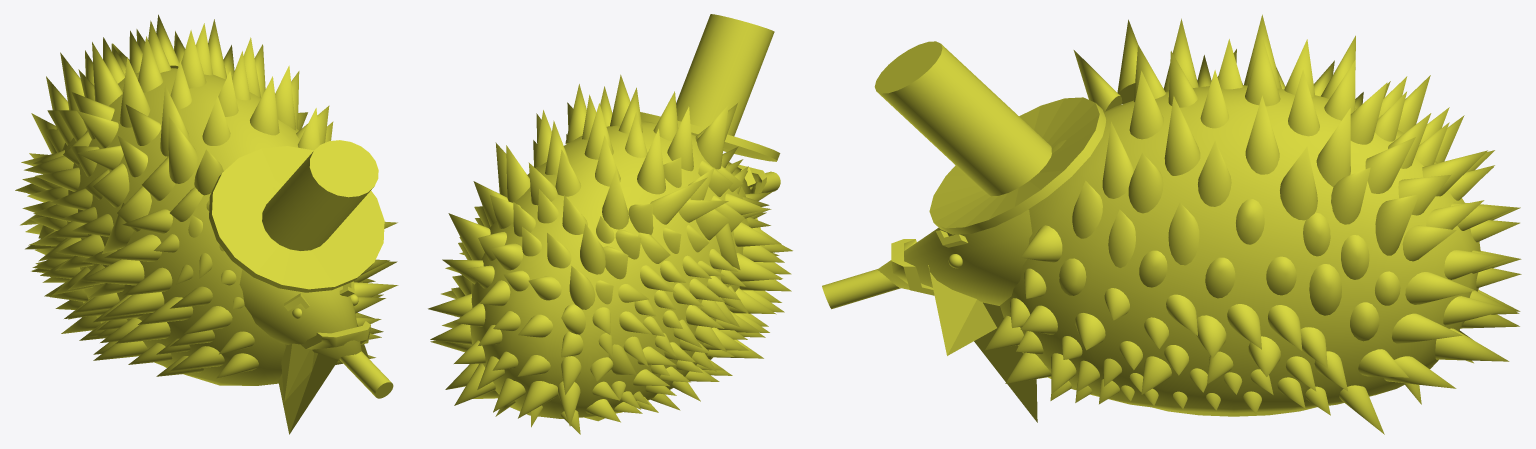
The model's file is Shane_the_Echidna.fbx.
3 renders of one model, left to right at view 1: azimuth 30°, elevation 25°; view 2: azimuth 150°, elevation 25°; view 3: azimuth 270°, elevation 25°, orthographic. The views are drawn at different scales.
Parts seen in each view (by area): view 1: hat, body, face, beard, spike169, pPyramid2, nose, spike190, spike4, spike10, spike38, pCube1 (+58 smaller); view 2: body, hat, spike4, spike169, spike10, spike184, spike9, spike48, spike19, spike12, spike20, spike18 (+75 smaller); view 3: body, hat, face, pPyramid1, beard, spike46, spike7, nose, spike48, spike1, spike12, spike55 (+64 smaller).
Part boxes in pixels (box(x1,y1,x2,y2)): hat: box(209, 140, 384, 292); body: box(54, 68, 299, 385); face: box(239, 269, 361, 360); beard: box(278, 344, 338, 434); spike169: box(168, 116, 197, 183); pPyramid2: box(281, 343, 313, 401); nose: box(339, 351, 393, 398); spike190: box(80, 259, 144, 285); spike4: box(119, 57, 150, 127); spike10: box(92, 42, 122, 105); spike38: box(250, 76, 279, 135); pCube1: box(301, 321, 370, 349); body: box(470, 122, 750, 421); hat: box(640, 14, 780, 161); spike4: box(637, 128, 665, 194); spike169: box(697, 104, 728, 169); spike10: box(602, 169, 628, 229); spike184: box(650, 177, 707, 224); spike9: box(667, 106, 693, 171); spike48: box(448, 213, 490, 260); spike19: box(580, 223, 605, 274); spike12: box(506, 145, 530, 202); spike20: box(569, 266, 595, 309); spike18: box(518, 381, 558, 418); body: box(1000, 85, 1480, 416); hat: box(874, 41, 1105, 234); face: box(877, 209, 1032, 305); pPyramid1: box(928, 265, 996, 355); beard: box(974, 302, 1037, 422); spike46: box(1280, 146, 1317, 220); spike7: box(1164, 96, 1200, 175); nose: box(822, 269, 900, 309); spike48: box(1375, 194, 1419, 255); spike1: box(1245, 95, 1279, 174); spike12: box(1316, 108, 1350, 186); spike55: box(1102, 121, 1133, 198).
Size of the model in its own units: 2.83 by 2.94 by 4.83.
